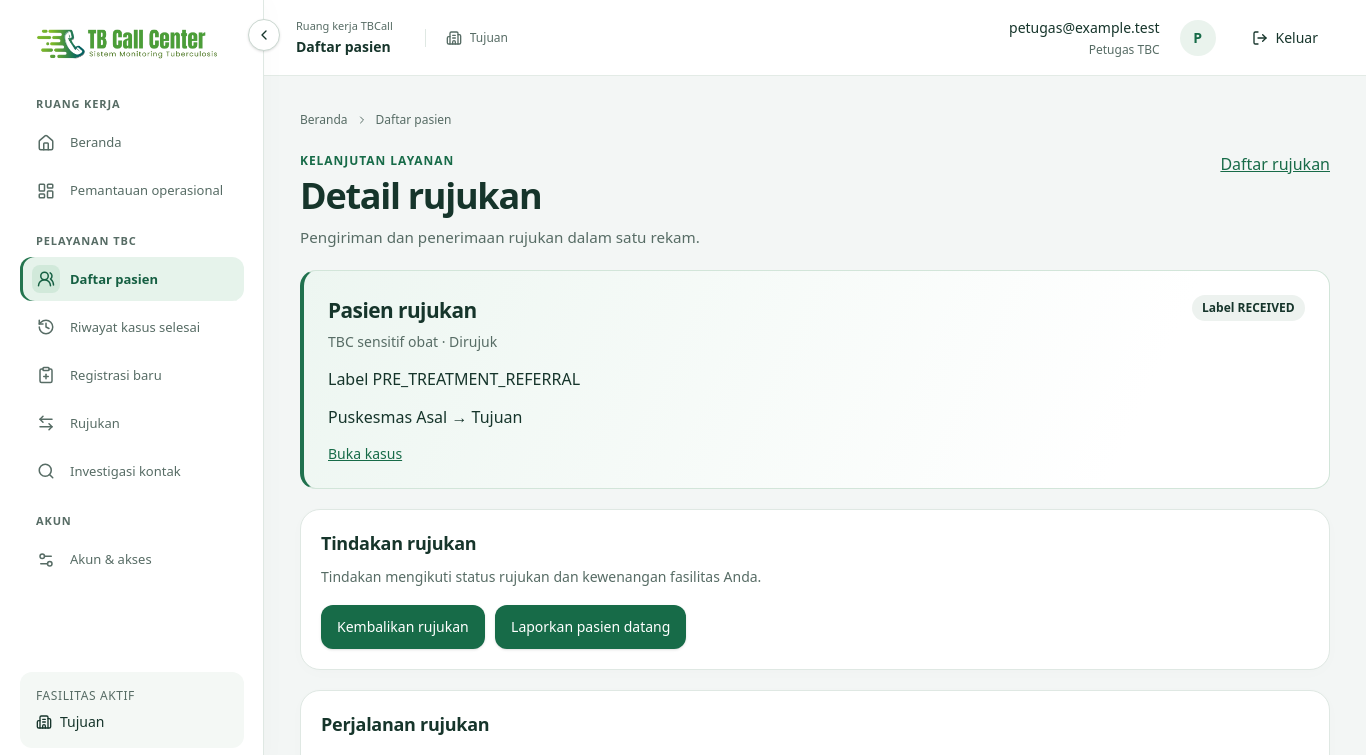
referral return submits actual GET ETag and only transition fields
Click the button "Kembalikan rujukan": click(403, 628) [321, 606, 485, 650]
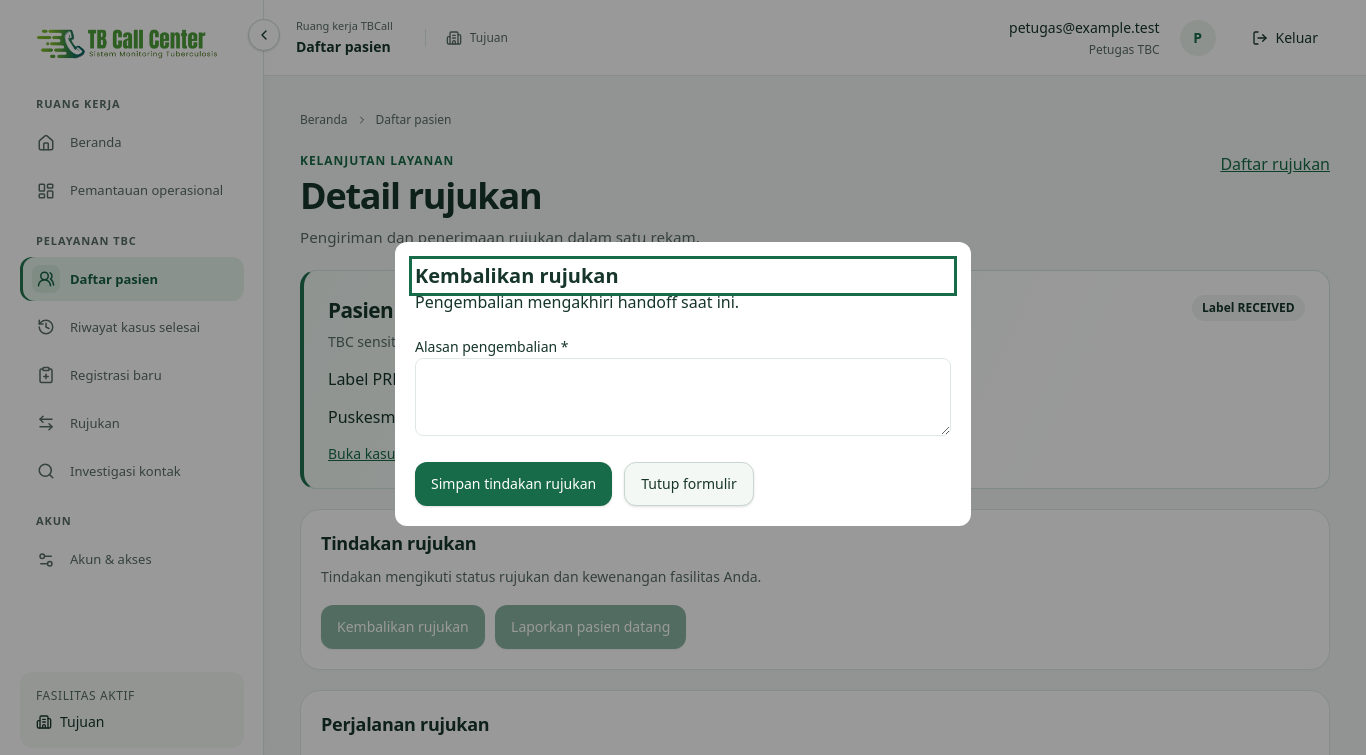
In the text box labelled "Alasan pengembalian *": (683, 397) [415, 358, 951, 436], type "Reason"
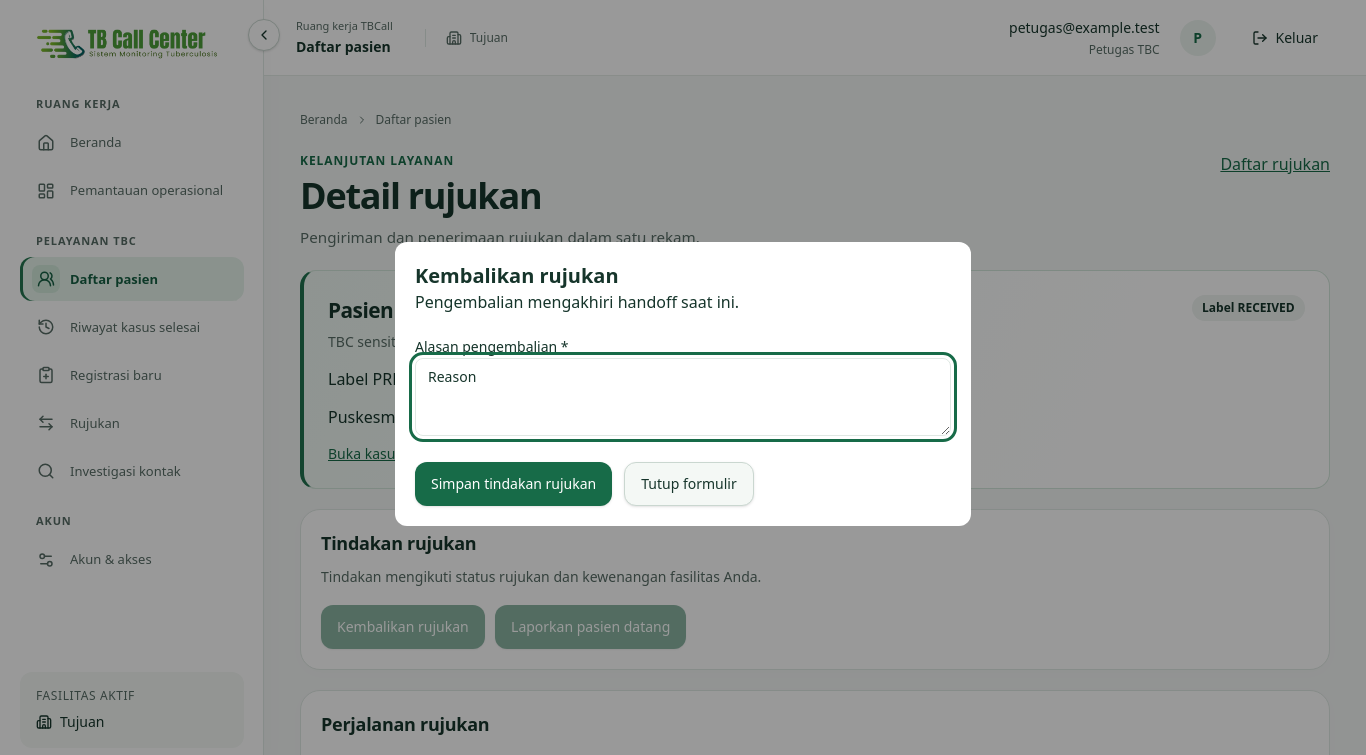
Click the button "Simpan tindakan rujukan": click(514, 484) [415, 462, 612, 506]
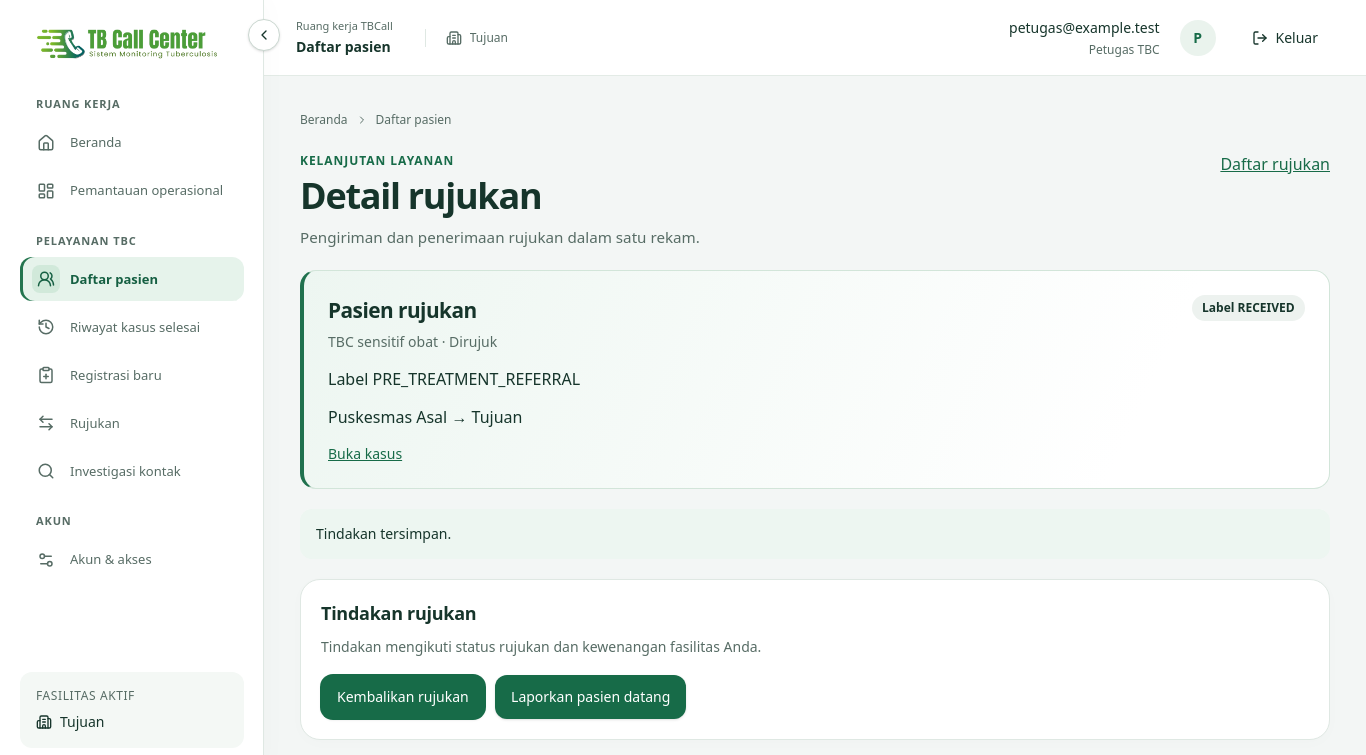
Expected: the text "Tindakan tersimpan." is shown, [300, 510, 1330, 559]
